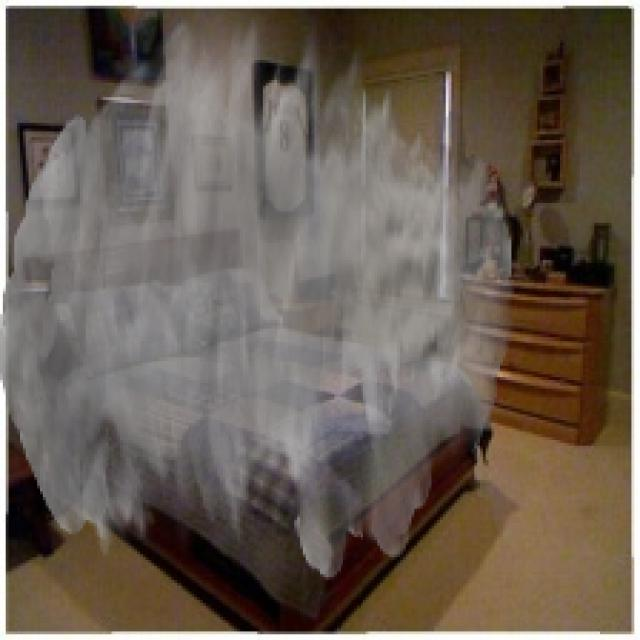smoke: (0, 11, 515, 580)
